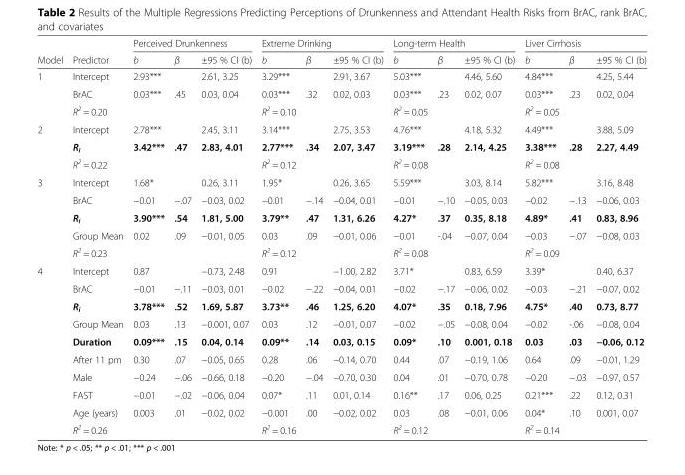table: (36, 37, 645, 435)
table column: (195, 37, 256, 435), (458, 37, 519, 435), (67, 37, 127, 435), (327, 37, 387, 435), (590, 37, 645, 435), (256, 37, 300, 435), (387, 37, 431, 435), (519, 37, 563, 435), (127, 37, 168, 435), (36, 37, 67, 435), (168, 37, 195, 435), (300, 37, 327, 435), (431, 37, 458, 435), (563, 37, 590, 435)
table column header: (36, 37, 645, 67)
table row: (36, 101, 645, 120), (36, 137, 645, 155), (36, 155, 645, 173), (36, 190, 645, 208), (36, 208, 645, 226), (36, 243, 645, 261), (36, 261, 645, 279), (36, 279, 645, 297), (36, 297, 645, 315), (36, 332, 645, 350), (36, 367, 645, 385), (36, 385, 645, 403), (36, 50, 645, 67), (36, 67, 645, 84), (36, 84, 645, 101), (36, 120, 645, 137), (36, 173, 645, 190), (36, 226, 645, 243), (36, 315, 645, 332), (36, 350, 645, 367), (36, 403, 645, 420), (36, 420, 645, 435), (36, 37, 645, 50)
table spanning cell: (36, 261, 67, 435), (36, 173, 67, 261), (67, 37, 127, 67), (387, 37, 519, 50), (256, 37, 387, 50), (127, 37, 256, 50), (36, 67, 67, 120), (36, 120, 67, 173), (519, 37, 645, 50), (36, 37, 67, 67)
